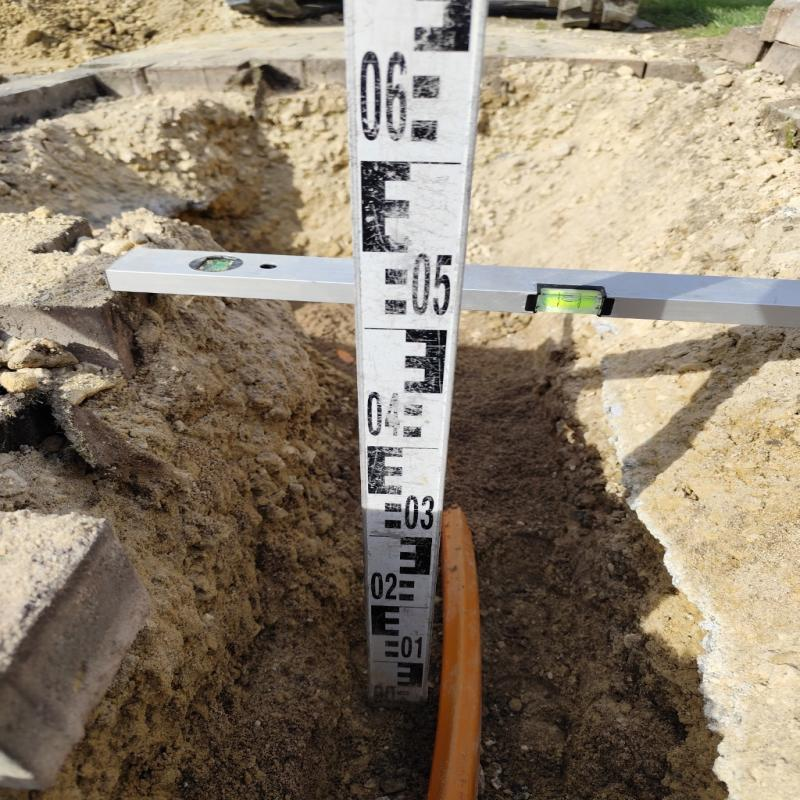Orang-Speednetrohrchen: (426, 503, 480, 799)
